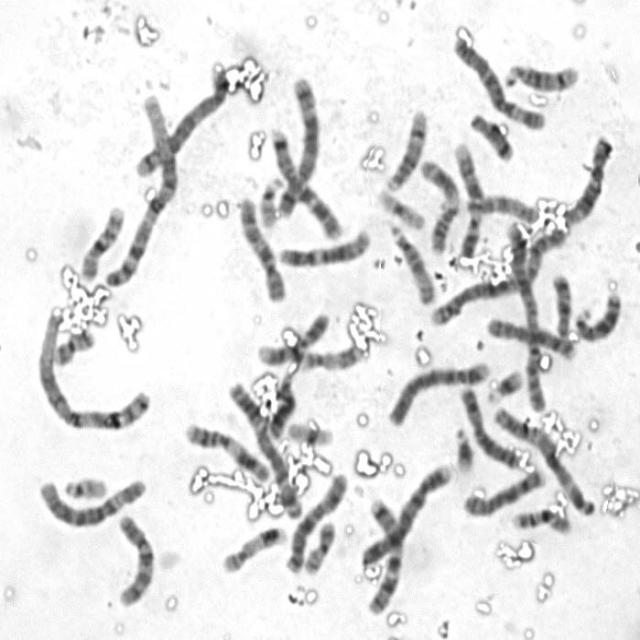A1: (97, 86, 181, 288), (32, 304, 153, 434)
A2: (427, 222, 570, 328), (500, 215, 549, 414)
A3: (487, 400, 597, 518), (224, 377, 304, 520)
B4: (356, 456, 455, 572), (384, 354, 494, 428)
B5: (131, 58, 232, 180), (273, 71, 322, 220)
C10: (232, 190, 288, 305), (111, 508, 158, 609)
C11: (181, 417, 272, 484), (416, 153, 462, 257)
C12: (560, 130, 616, 227), (272, 222, 372, 268)
C6: (449, 31, 548, 132), (35, 470, 150, 530)
C7: (267, 121, 345, 242), (362, 492, 406, 617)
C8: (459, 462, 549, 519), (482, 312, 578, 362)
C9: (255, 307, 333, 367), (450, 136, 486, 259)
D13: (570, 286, 624, 344), (264, 370, 310, 438)
D14: (382, 103, 430, 193), (500, 56, 582, 93)
D15: (386, 216, 438, 307), (461, 188, 542, 225)
E16: (76, 199, 127, 282), (509, 502, 575, 536)
E17: (218, 520, 290, 575), (296, 338, 370, 372)
E18: (465, 106, 517, 163), (548, 268, 574, 340)
F19: (374, 182, 426, 230), (283, 416, 335, 448)
F20: (300, 516, 339, 576), (48, 322, 98, 367)
G21: (482, 363, 526, 405), (451, 420, 476, 474)
G22: (256, 170, 286, 230), (58, 470, 110, 501)
X: (281, 468, 350, 576), (455, 380, 523, 471)
